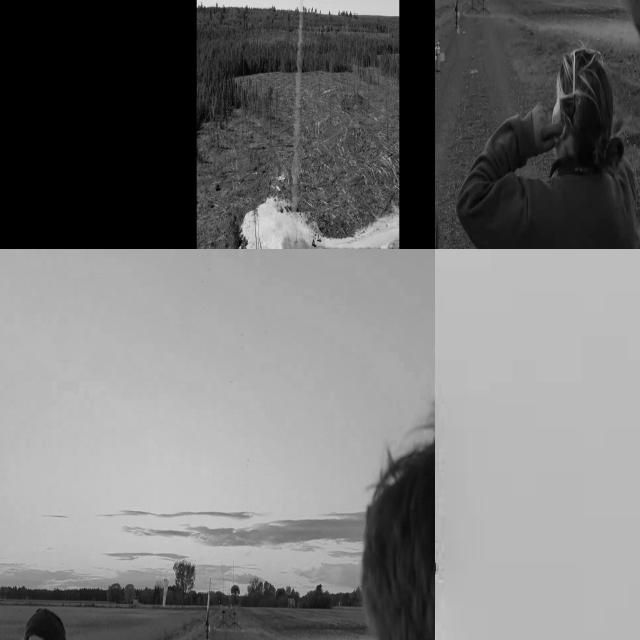Rocket: (435, 389, 443, 583), (205, 591, 210, 628), (454, 0, 458, 12)
